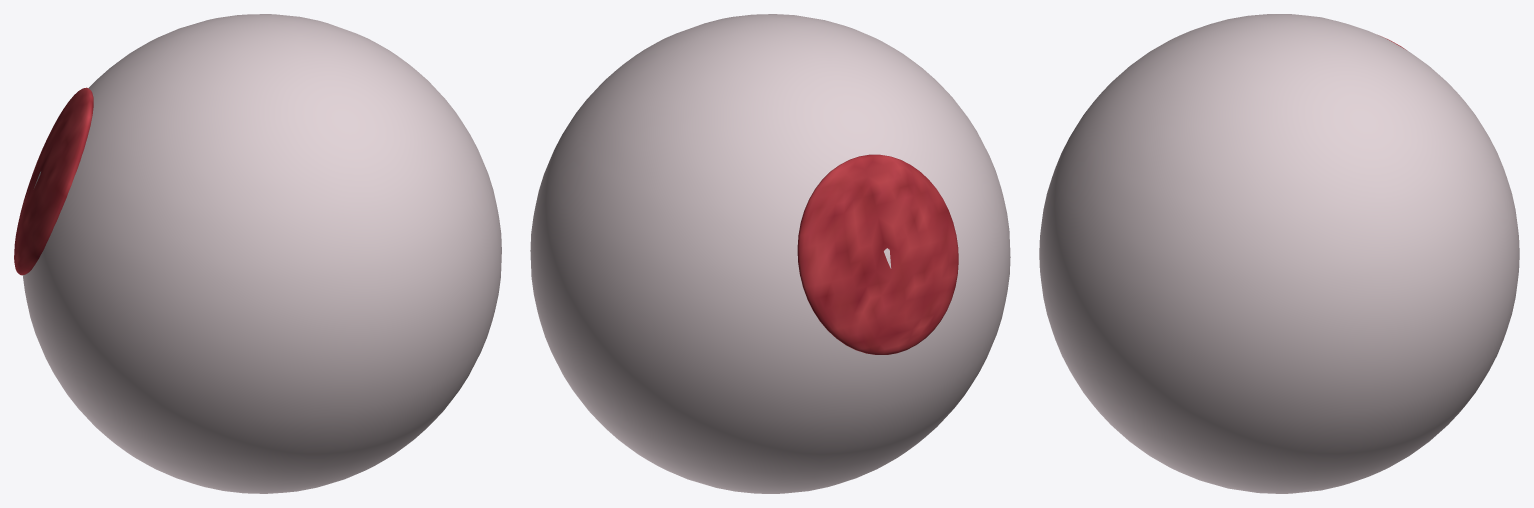
Rendered from hafta_32.glb.
3 views of the same model, side by side, from view 1: azimuth 30°, elevation 25°; view 2: azimuth 150°, elevation 25°; view 3: azimuth 270°, elevation 25° (orthographic).
Parts seen in each view (by area): view 1: Amniyon_kesesi, Plasenta; view 2: Amniyon_kesesi, Plasenta; view 3: Amniyon_kesesi.
Part boxes in pixels (x1,y1,x2,y2): Amniyon_kesesi: (22, 14, 501, 493); Plasenta: (14, 87, 93, 275); Amniyon_kesesi: (530, 14, 1010, 493); Plasenta: (797, 154, 958, 354); Amniyon_kesesi: (1039, 14, 1519, 493).
Size of the model in its own units: 1.66 by 1.66 by 1.66.
